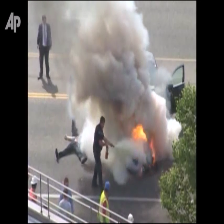fire_l: (131, 122, 147, 141), (149, 138, 156, 164)
